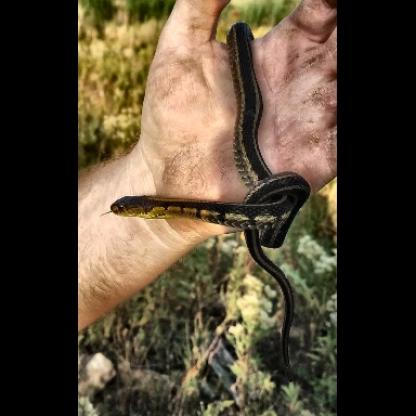Snake: (104, 173, 316, 333)
